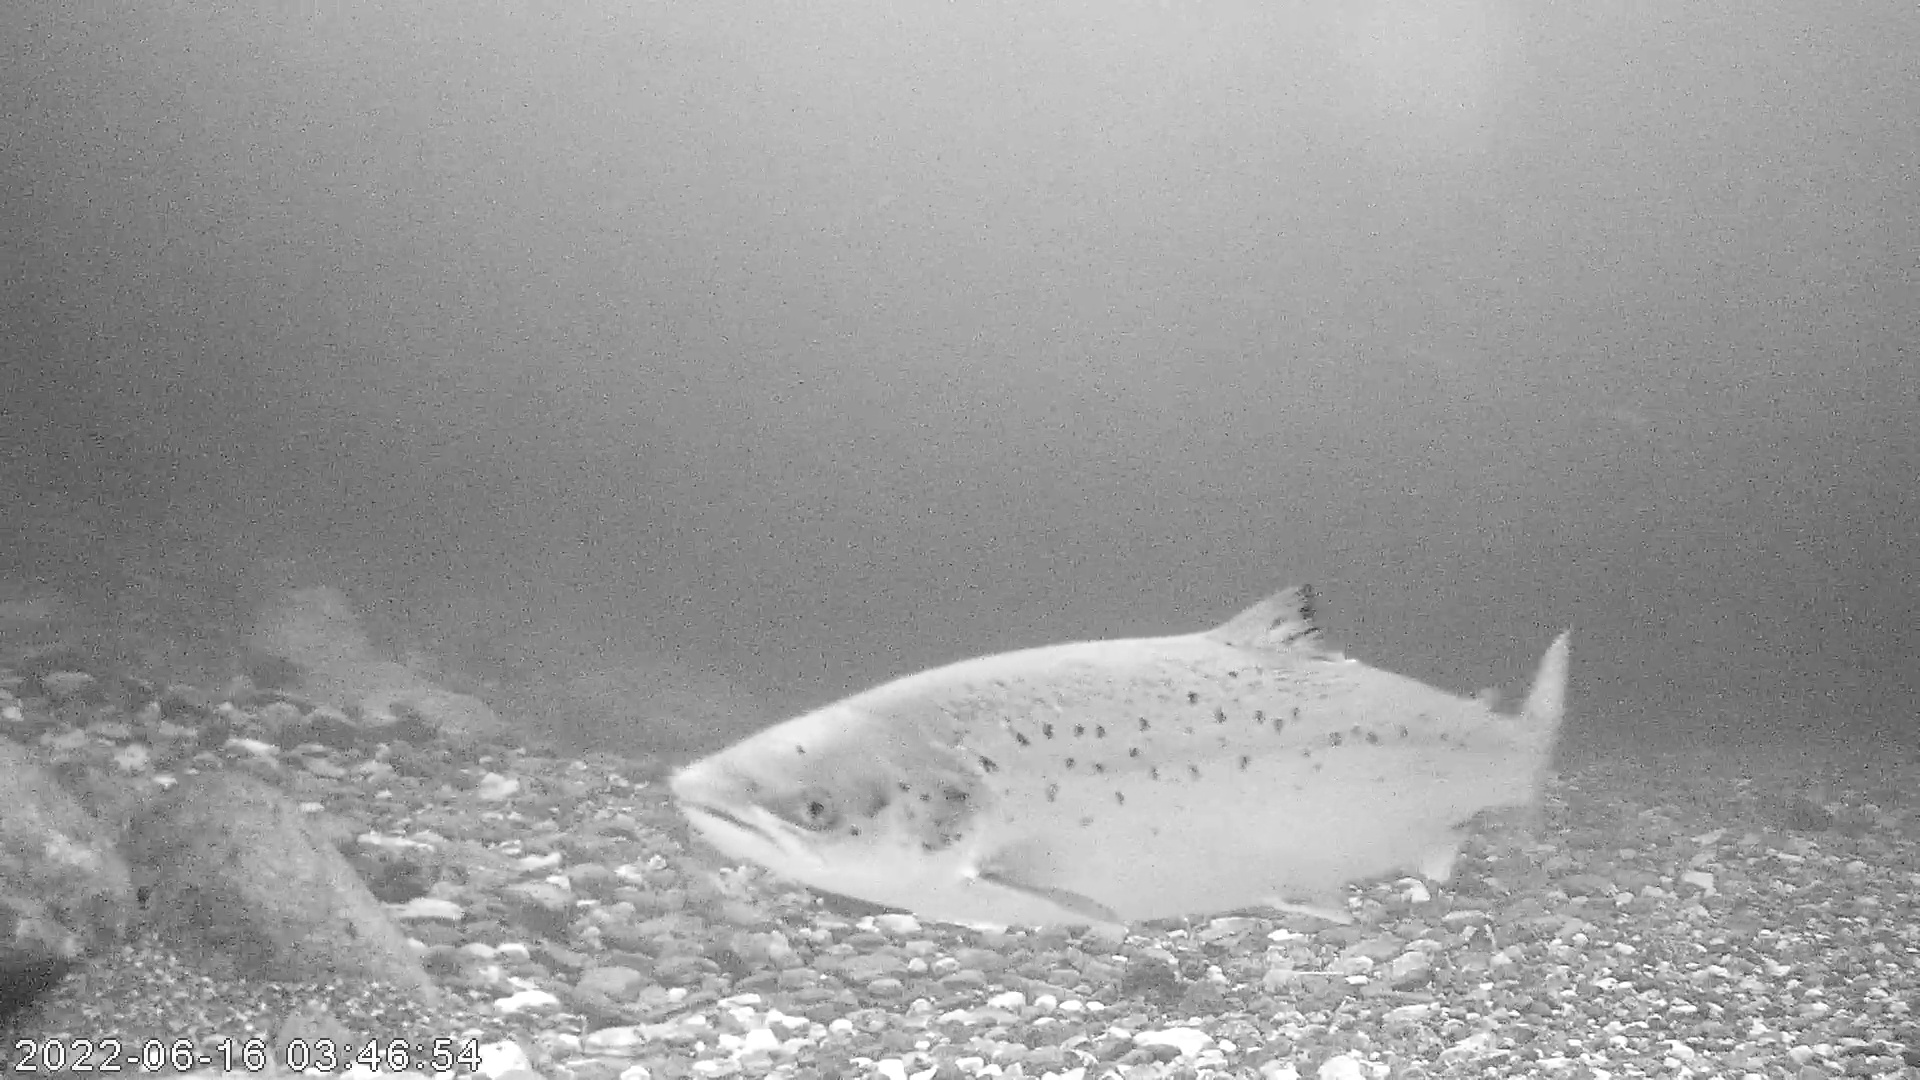salmon: (665, 579, 1577, 938)
